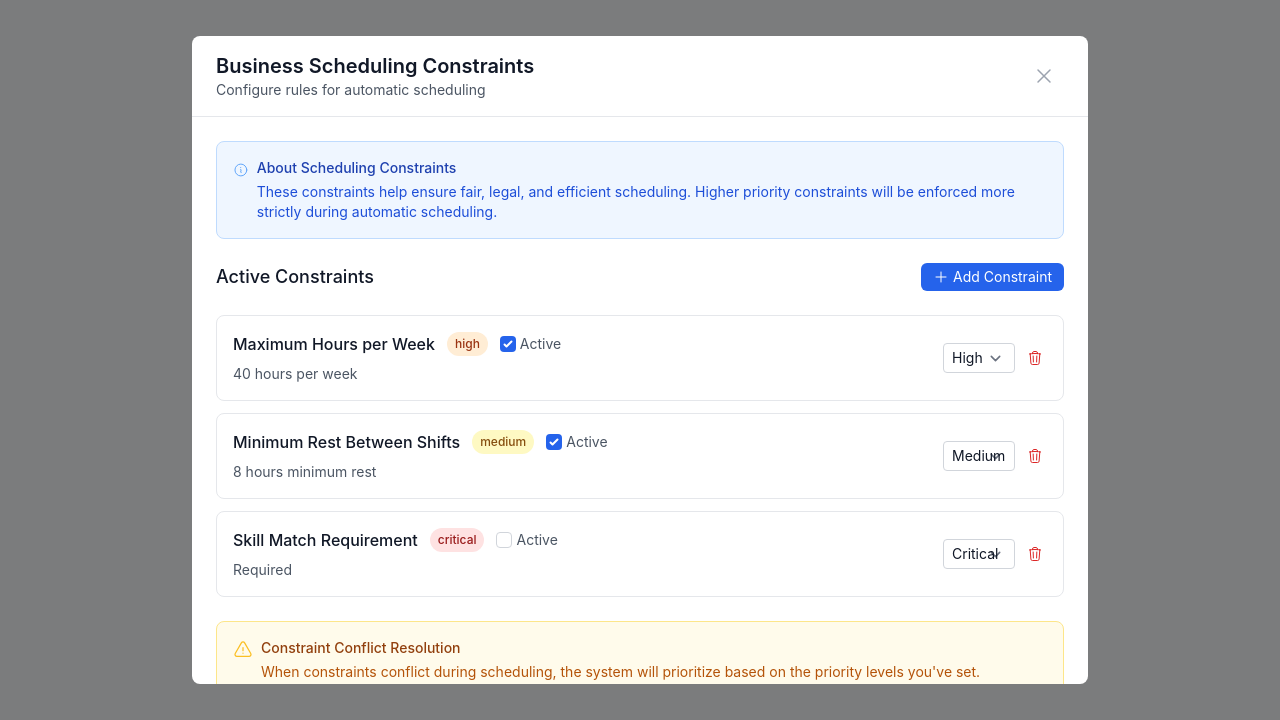
Scenario: BusinessConstraintsModal › cancels constraint form
// Click add constraint to show form
Click the button "Add Constraint" at x=992, y=277, box [921,263,1064,291]
(page scrolled)
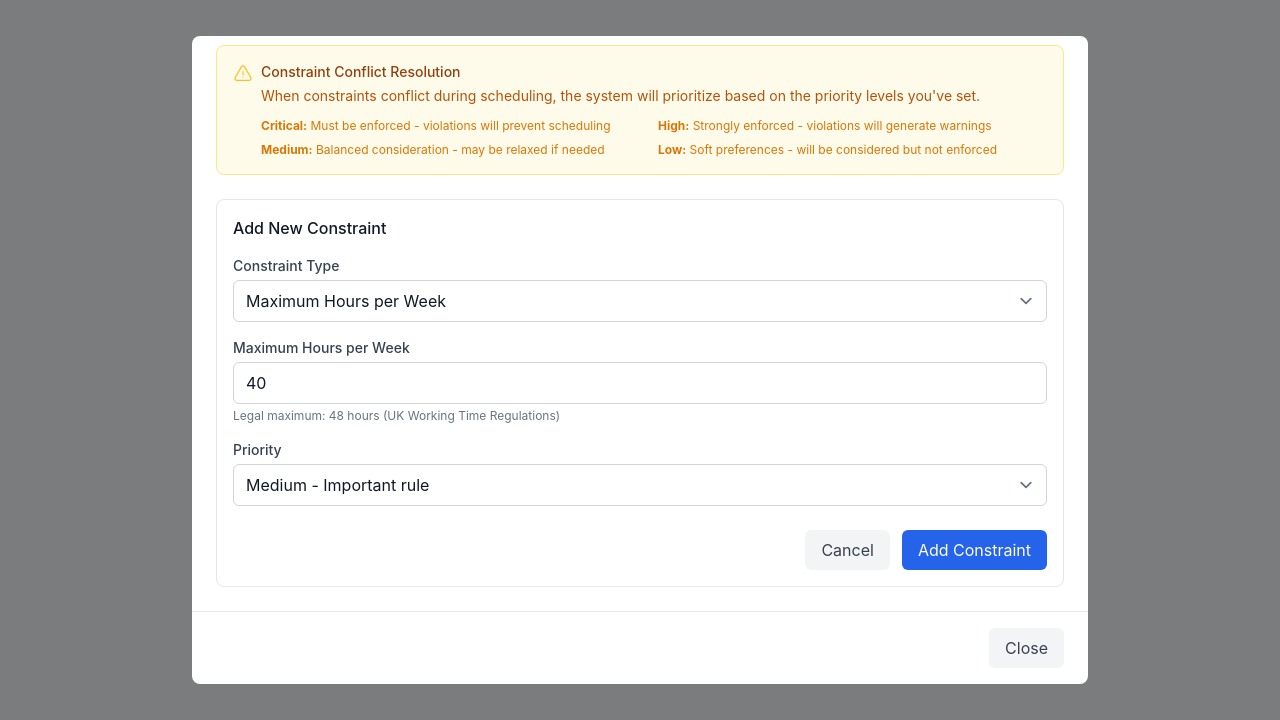
Expected: the heading "Add New Constraint" is shown, [233,218,386,238]
// Click cancel
Click the button "Cancel" at x=848, y=550, box [805,530,890,570]
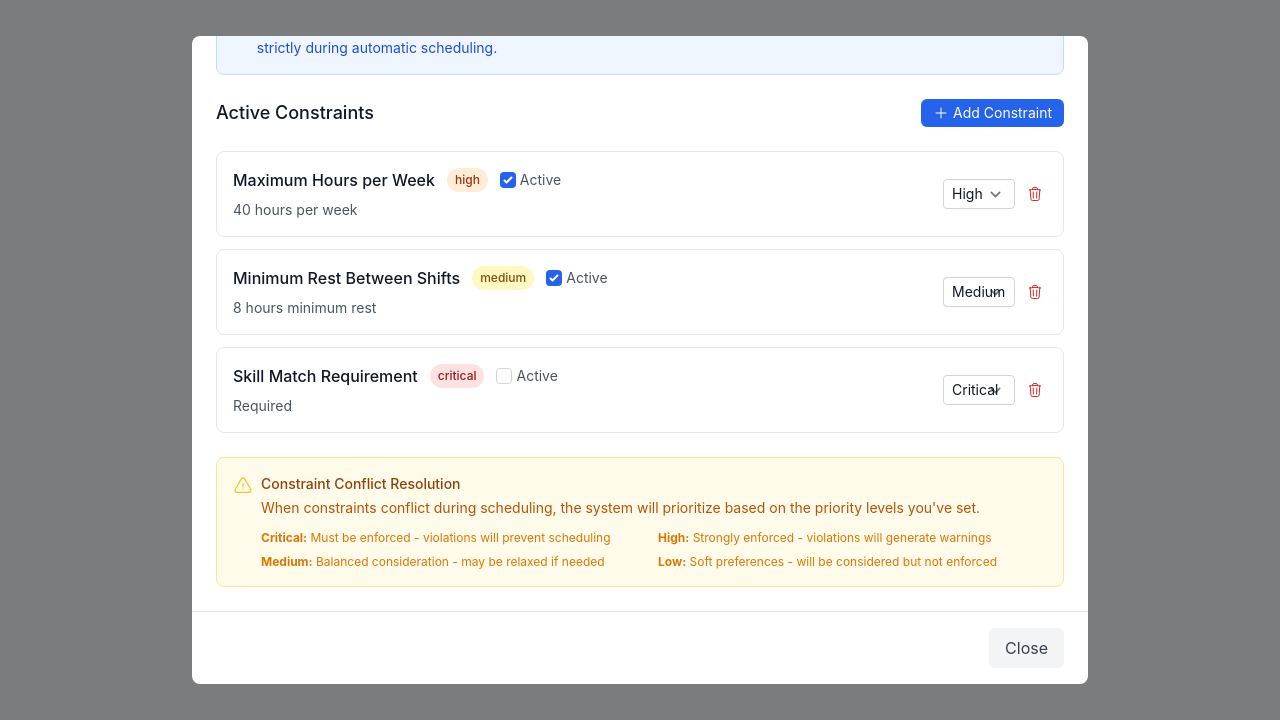
Expected: the heading "Add New Constraint" is gone
